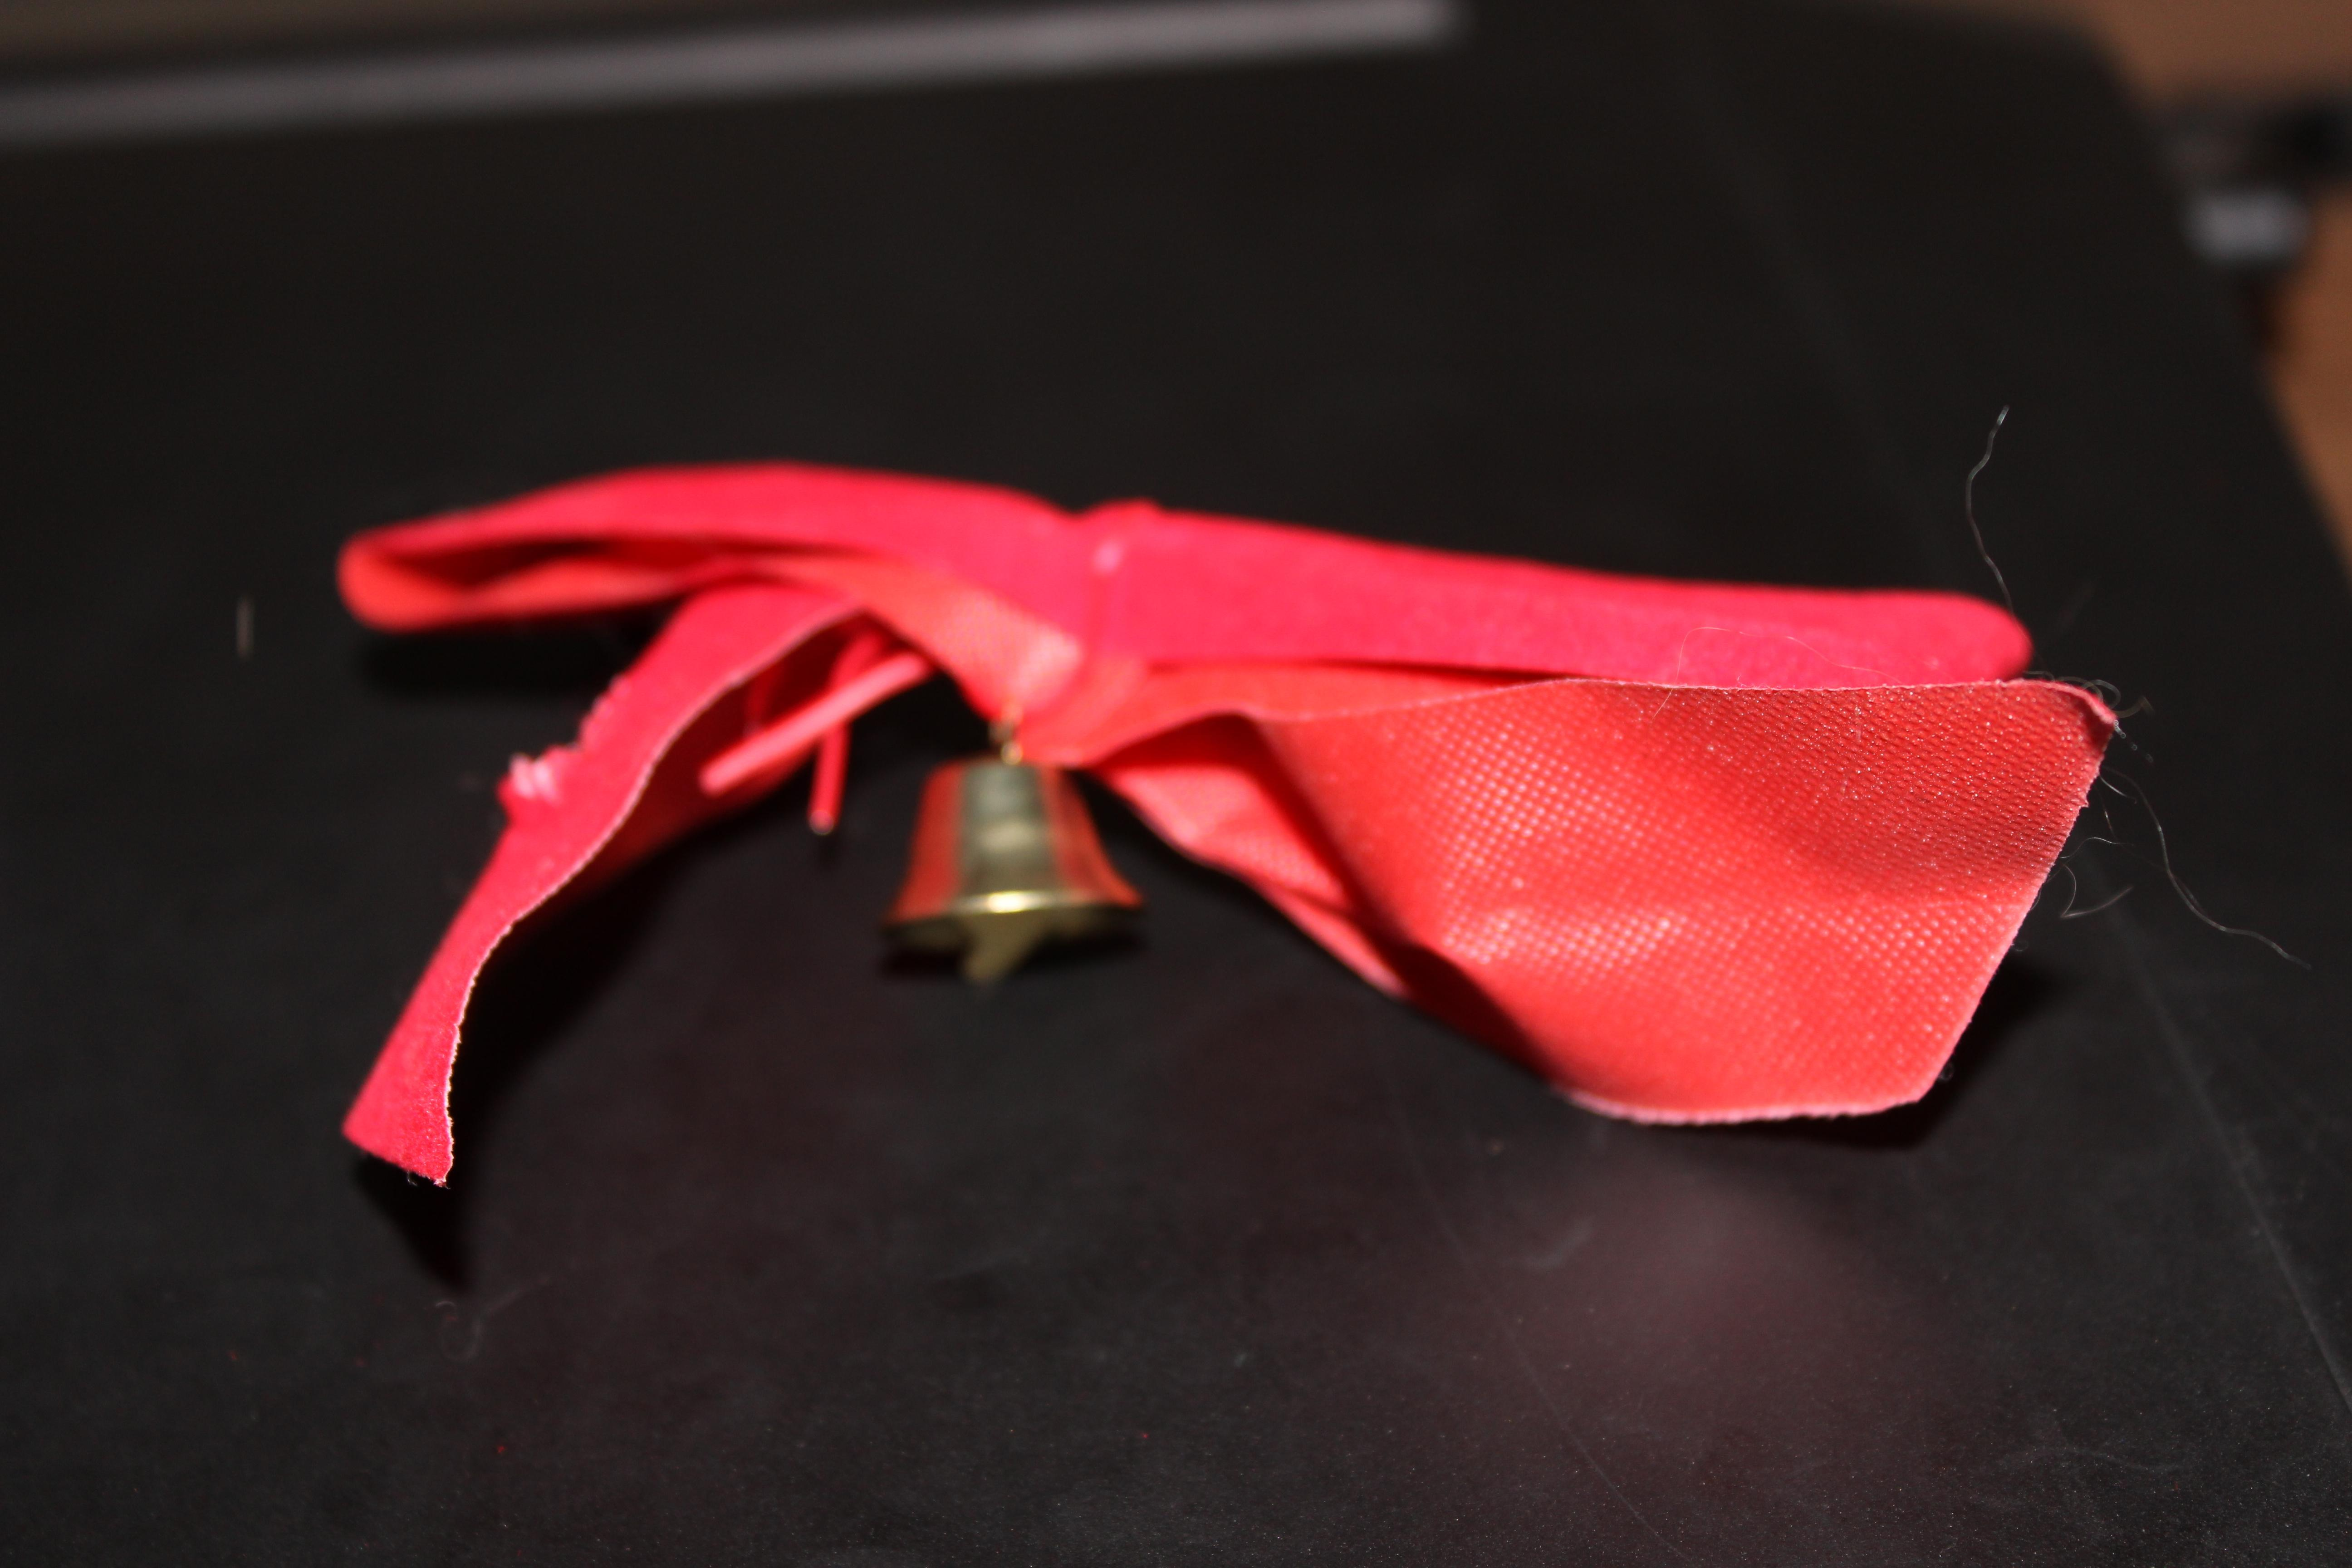redBow: (287, 385, 2177, 1246)
